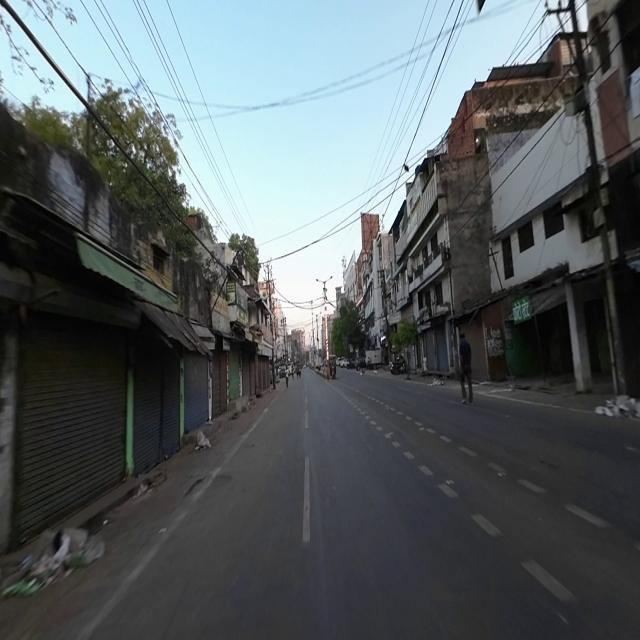Garbage: (12, 531, 102, 595), (596, 391, 640, 419)
